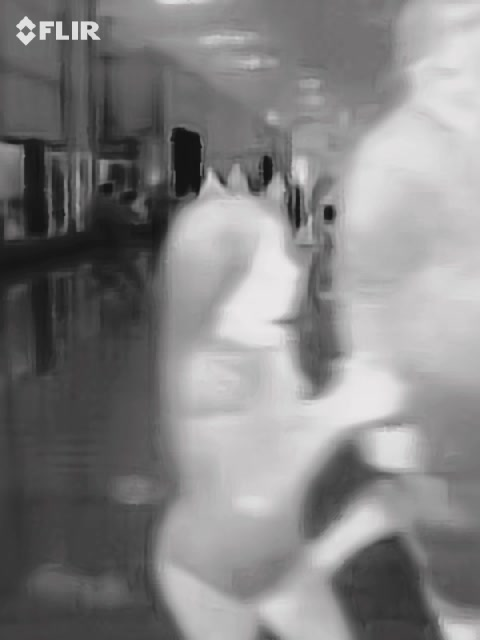head: (167, 197, 297, 320), (395, 1, 480, 127)
